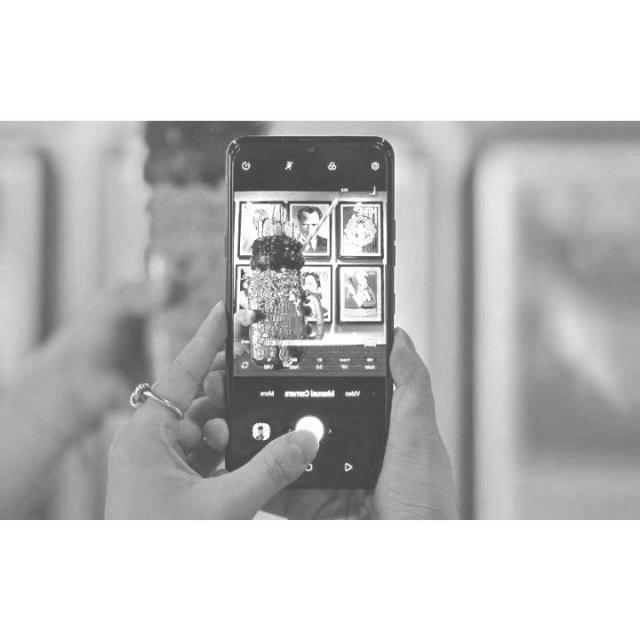fake: (212, 128, 400, 494)
